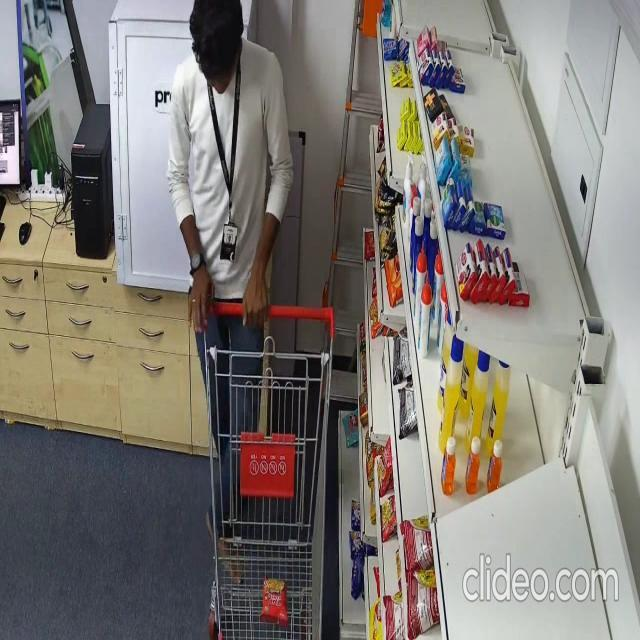normal: (170, 0, 290, 582)
